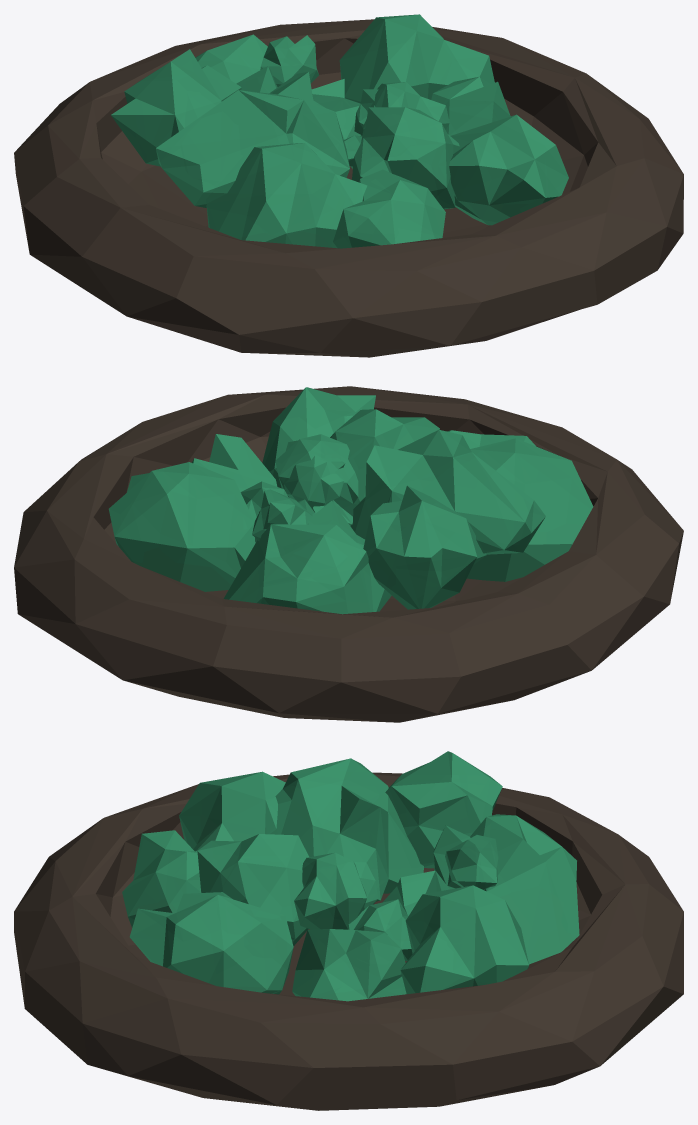
The model's file is plate of emerald.glb.
3 renders of one model, top to bottom at view 1: azimuth 30°, elevation 25°; view 2: azimuth 150°, elevation 25°; view 3: azimuth 270°, elevation 25°, orthographic. The views are drawn at different scales.
Visible parts, largest first — view 1: Cube, Cube.007, Cube.012, Cube.002, Cube.005, Cube.011, Cube.009, Cube.001, Cube.006, Cube.010, Cube.008, Cube.016 (+2 smaller); view 2: Cube, Cube.005, Cube.007, Cube.010, Cube.011, Cube.012, Cube.002, Cube.009, Cube.016, Cube.006, Cube.017, Cube.008 (+2 smaller); view 3: Cube, Cube.002, Cube.007, Cube.005, Cube.010, Cube.011, Cube.009, Cube.006, Cube.012, Cube.001, Cube.016, Cube.008 (+3 smaller).
Boxes of the visible parts, x1=… form: Cube: x1=14, y1=19, x2=683, y2=357; Cube.007: x1=156, y1=71, x2=349, y2=207; Cube.012: x1=206, y1=143, x2=367, y2=248; Cube.002: x1=449, y1=114, x2=568, y2=225; Cube.005: x1=339, y1=14, x2=494, y2=103; Cube.011: x1=111, y1=49, x2=241, y2=166; Cube.009: x1=352, y1=107, x2=459, y2=209; Cube.001: x1=333, y1=169, x2=445, y2=248; Cube.006: x1=431, y1=76, x2=510, y2=135; Cube.010: x1=195, y1=34, x2=277, y2=93; Cube.008: x1=260, y1=35, x2=318, y2=86; Cube.016: x1=361, y1=82, x2=449, y2=142; Cube: x1=14, y1=386, x2=683, y2=722; Cube.005: x1=108, y1=462, x2=254, y2=591; Cube.007: x1=352, y1=429, x2=545, y2=554; Cube.010: x1=223, y1=501, x2=391, y2=614; Cube.011: x1=363, y1=485, x2=486, y2=609; Cube.012: x1=467, y1=438, x2=593, y2=581; Cube.002: x1=262, y1=387, x2=375, y2=488; Cube.009: x1=330, y1=409, x2=439, y2=516; Cube.016: x1=275, y1=434, x2=358, y2=508; Cube.006: x1=192, y1=434, x2=277, y2=543; Cube.017: x1=284, y1=456, x2=345, y2=509; Cube.008: x1=252, y1=489, x2=312, y2=540; Cube: x1=14, y1=772, x2=683, y2=1110; Cube.002: x1=129, y1=892, x2=293, y2=994; Cube.007: x1=270, y1=758, x2=423, y2=901; Cube.005: x1=400, y1=885, x2=528, y2=994; Cube.010: x1=433, y1=814, x2=579, y2=964; Cube.011: x1=385, y1=751, x2=502, y2=868; Cube.009: x1=197, y1=834, x2=308, y2=946; Cube.006: x1=292, y1=929, x2=406, y2=1001; Cube.012: x1=179, y1=771, x2=285, y2=851; Cube.001: x1=122, y1=830, x2=201, y2=927; Cube.016: x1=294, y1=852, x2=366, y2=929; Cube.008: x1=445, y1=835, x2=498, y2=890.
Bounding box in the file's own units: 0.286 × 0.0947 × 0.286.
